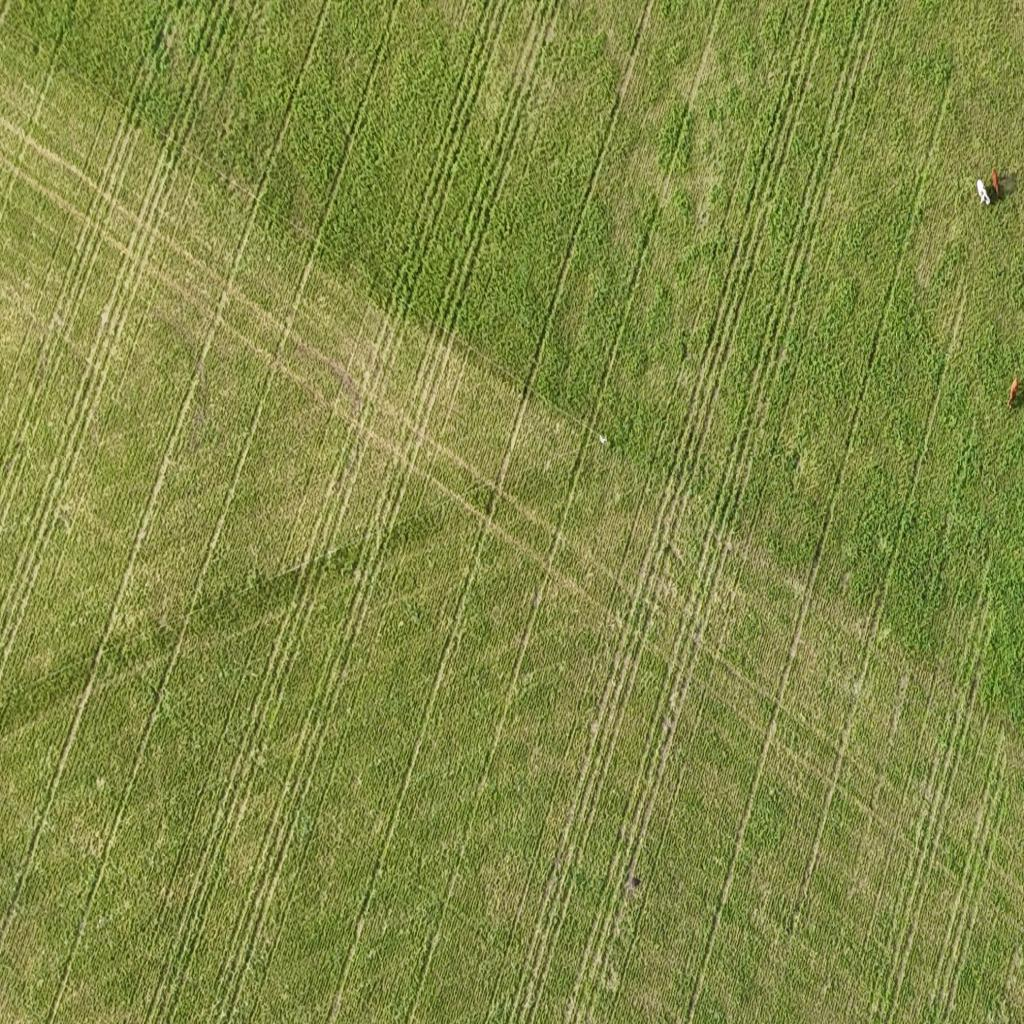cow: (972, 172, 990, 214), (1006, 375, 1023, 410), (991, 166, 1004, 200)
